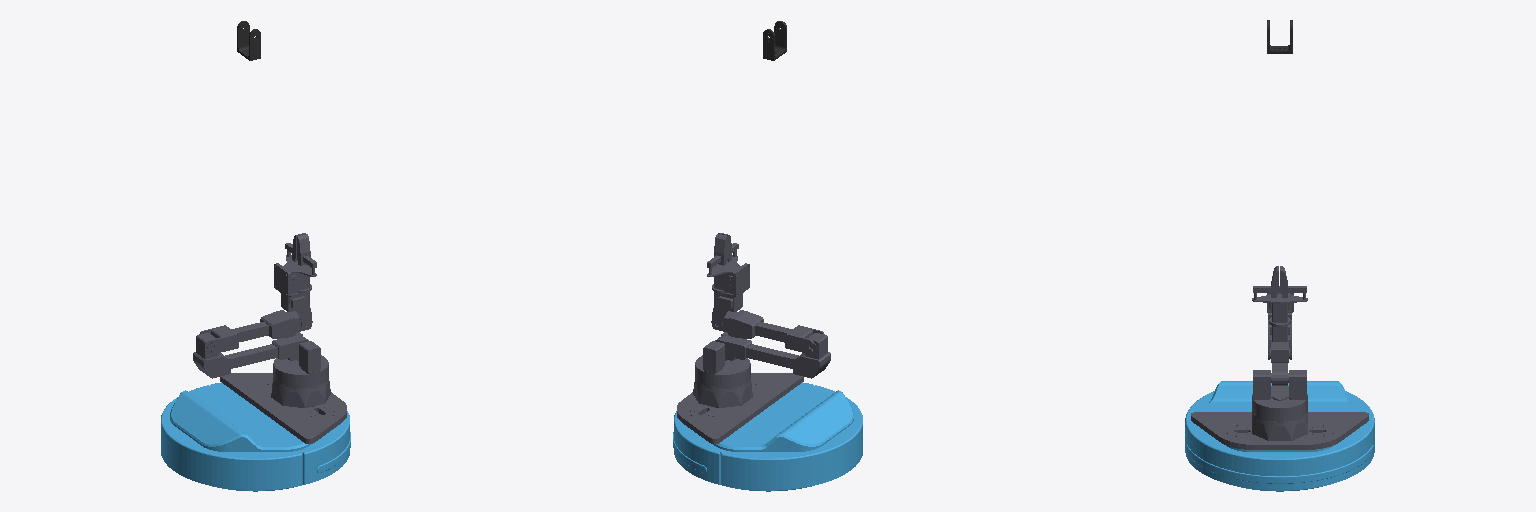
--- What the picture shows (computed from the rendered views, not written in the file) ---
3 views of the same robot in one strip: view 1: azimuth 30°, elevation 25°; view 2: azimuth 150°, elevation 25°; view 3: azimuth 270°, elevation 25° (orthographic).
Robot: locobot — 26 links, 25 joints (2 continuous, 23 fixed); root link base_footprint; default pose: all joints at 0.
Visible links, largest first — view 1: base_link, plate_2, elbow_link, forearm_link, arm_base_link, shoulder_link, gripper_link, head_pan_link, wrist_link; view 2: base_link, plate_2, elbow_link, forearm_link, arm_base_link, shoulder_link, gripper_link, head_pan_link, wrist_link; view 3: base_link, plate_2, arm_base_link, shoulder_link, gripper_link.
Link boxes in pixels (<box>): base_link: <box>161,382,350,491</box>; plate_2: <box>220,373,346,441</box>; elbow_link: <box>193,333,308,378</box>; forearm_link: <box>199,310,310,353</box>; arm_base_link: <box>271,365,330,407</box>; shoulder_link: <box>273,332,328,375</box>; gripper_link: <box>283,243,316,293</box>; head_pan_link: <box>237,21,260,60</box>; wrist_link: <box>281,292,312,329</box>; base_link: <box>673,382,862,491</box>; plate_2: <box>677,373,803,441</box>; elbow_link: <box>715,333,830,378</box>; forearm_link: <box>713,310,824,353</box>; arm_base_link: <box>693,365,752,407</box>; shoulder_link: <box>695,332,750,375</box>; gripper_link: <box>707,243,740,293</box>; head_pan_link: <box>763,21,786,60</box>; wrist_link: <box>711,292,742,329</box>; base_link: <box>1185,381,1374,491</box>; plate_2: <box>1191,412,1368,447</box>; arm_base_link: <box>1252,398,1307,440</box>; shoulder_link: <box>1252,370,1307,409</box>; gripper_link: <box>1252,286,1307,326</box>.
Size in the robot's own frame: 0.3518 by 0.35 by 0.8952 metres.
Meshes: 16 distinct files referenced, 15 mesh visuals loaded (13 OBJ); not drawn: 3 (reference not matched to a file when rendering).

The robot description file, URDF, robot "locobot":
<?xml version="1.0" ?>
<robot name="locobot">
    <!-- Kobuki -->
    <link name="base_footprint">
        <inertial>
            <mass value="0.0001"/>
            <origin xyz="0 0 0"/>
            <inertia ixx="0.0001" ixy="0.0" ixz="0.0" iyy="0.0001" iyz="0.0" izz="0.0001"/>
        </inertial>
    </link>
    <!--
       Base link is set at the bottom of the base mould.
       This is done to be compatible with the way base link
       was configured for turtlebot 1. Refer to

       https://github.com/turtlebot/turtlebot/issues/40

       To put the base link at the more oft used wheel
       axis, set the z-distance from the base_footprint
       to 0.352.
      -->
    <joint name="base_joint" type="fixed">
        <origin rpy="0 0 0" xyz="0 0 0.0102"/>
        <parent link="base_footprint"/>
        <child link="base_link"/>
    </joint>
    <link name="base_link">
        <visual>
            <geometry>
                <!-- new mesh -->
                <mesh filename="meshes/main_body.obj"/>
            </geometry>
            <origin rpy="0 0 0" xyz="0.001 0 0.05199"/>
        </visual>
        <collision name="base">
            <geometry>
                <cylinder length="0.10938" radius="0.178"/>
            </geometry>
            <origin rpy="0 0 0" xyz="0.0 0 0.05949"/>
        </collision>
        <inertial>
            <!-- COM experimentally determined -->
            <origin xyz="0.01 0 0"/>
            <mass value="2.4"/>
            <!-- 2.4/2.6 kg for small/big battery pack -->
            <!-- Kobuki's inertia tensor is approximated by a cylinder with homogeneous mass distribution
             More details: http://en.wikipedia.org/wiki/List_of_moment_of_inertia_tensors
             m = 2.4 kg; h = 0.09 m; r = 0.175 m
             ixx = 1/12 * m * (3 * r^2 + h^2)
             iyy = 1/12 * m * (3 * r^2 + h^2)
             izz = 1/2 * m * r^2
          -->
            <inertia ixx="0.019995" ixy="0.0" ixz="0.0" iyy="0.019995" iyz="0.0" izz="0.03675"/>
        </inertial>
    </link>
    <joint name="wheel_left_joint" type="continuous">
        <parent link="base_link"/>
        <child link="wheel_left_link"/>
        <origin rpy="-1.57079632679 0 0" xyz="0.00 0.115 0.0250"/>
        <axis xyz="0 0 1"/>
    </joint>
    <link name="wheel_left_link">
        <visual>
            <geometry>
                <mesh filename="meshes/wheel.obj"/>
            </geometry>
            <origin rpy="0 0 0" xyz="0 0 0"/>
        </visual>
        <collision>
            <geometry>
                <cylinder length="0.0206" radius="0.0352"/>
            </geometry>
            <origin rpy="0 0 0" xyz="0 0 0"/>
        </collision>
        <inertial>
            <mass value="0.01"/>
            <origin xyz="0 0 0"/>
            <inertia ixx="0.001" ixy="0.0" ixz="0.0" iyy="0.001" iyz="0.0" izz="0.001"/>
        </inertial>
        <contact>
            <lateral_friction value="1.0"/>
            <rolling_friction value="0.0"/>
            <stiffness value="30000"/>
            <damping value="1000"/>
        </contact>
    </link>
    <joint name="wheel_right_joint" type="continuous">
        <parent link="base_link"/>
        <child link="wheel_right_link"/>
        <origin rpy="-1.57079632679 0 0" xyz="0.00 -0.115 0.0250"/>
        <axis xyz="0 0 1"/>
    </joint>
    <link name="wheel_right_link">
        <visual>
            <geometry>
                <mesh filename="meshes/wheel.obj"/>
            </geometry>
            <origin rpy="0 0 0" xyz="0 0 0"/>
        </visual>
        <collision>
            <geometry>
                <cylinder length="0.0206" radius="0.0350"/>
            </geometry>
            <origin rpy="0 0 0" xyz="0 0 0"/>
        </collision>
        <inertial>
            <mass value="0.01"/>
            <origin xyz="0 0 0"/>
            <inertia ixx="0.001" ixy="0.0" ixz="0.0" iyy="0.001" iyz="0.0" izz="0.001"/>
        </inertial>
        <contact>
            <lateral_friction value="1.0"/>
            <rolling_friction value="0.0"/>
            <stiffness value="30000"/>
            <damping value="1000"/>
        </contact>
    </link>
    <joint name="caster_front_joint" type="fixed">
        <parent link="base_link"/>
        <child link="caster_front_link"/>
        <origin rpy="-1.57079632679 0 0" xyz="0.115 0.0 0.007"/>
    </joint>
    <link name="caster_front_link">
        <collision>
            <geometry>
                <cylinder length="0.0176" radius="0.017"/>
            </geometry>
            <origin rpy="0 0 0" xyz="0 0 0"/>
        </collision>
        <inertial>
            <mass value="0.01"/>
            <origin xyz="0 0 0"/>
            <inertia ixx="0.001" ixy="0.0" ixz="0.0" iyy="0.001" iyz="0.0" izz="0.001"/>
        </inertial>
        <contact>
            <lateral_friction value="0.0"/>
            <rolling_friction value="0.0"/>
            <stiffness value="30000"/>
            <damping value="10000"/>
        </contact>
    </link>
    <joint name="caster_back_joint" type="fixed">
        <parent link="base_link"/>
        <child link="caster_back_link"/>
        <origin rpy="-1.57079632679 0 0" xyz="-0.135 0.0 0.009"/>
    </joint>
    <link name="caster_back_link">
        <collision>
            <geometry>
                <cylinder length="0.0176" radius="0.017"/>
            </geometry>
            <origin rpy="0 0 0" xyz="0 0 0"/>
        </collision>
        <inertial>
            <mass value="0.01"/>
            <origin xyz="0 0 0"/>
            <inertia ixx="0.001" ixy="0.0" ixz="0.0" iyy="0.001" iyz="0.0" izz="0.001"/>
        </inertial>
        <contact>
            <lateral_friction value="0.0"/>
            <rolling_friction value="0.0"/>
            <stiffness value="30000"/>
            <damping value="10000"/>
        </contact>
    </link>
    <!-- Kobuki's sensors -->
    <joint name="gyro_joint" type="fixed">
        <axis xyz="0 1 0"/>
        <origin rpy="0 0 0" xyz="0.056 0.062 0.0202"/>
        <parent link="base_link"/>
        <child link="gyro_link"/>
    </joint>
    <link name="gyro_link">
        <inertial>
            <mass value="0.001"/>
            <origin rpy="0 0 0" xyz="0 0 0"/>
            <inertia ixx="0.0001" ixy="0" ixz="0" iyy="0.000001" iyz="0" izz="0.0001"/>
        </inertial>
    </link>
    <joint name="cliff_sensor_left_joint" type="fixed">
        <origin rpy="0 1.57079632679 0" xyz="0.08734 0.13601 0.0214"/>
        <parent link="base_link"/>
        <child link="cliff_sensor_left_link"/>
    </joint>
    <link name="cliff_sensor_left_link">
        <inertial>
            <mass value="0.0001"/>
            <origin xyz="0 0 0"/>
            <inertia ixx="0.0001" ixy="0.0" ixz="0.0" iyy="0.0001" iyz="0.0" izz="0.0001"/>
        </inertial>
    </link>
    <joint name="cliff_sensor_right_joint" type="fixed">
        <origin rpy="0 1.57079632679 0" xyz="0.085 -0.13601 0.0214"/>
        <parent link="base_link"/>
        <child link="cliff_sensor_right_link"/>
    </joint>
    <link name="cliff_sensor_right_link">
        <inertial>
            <mass value="0.0001"/>
            <origin xyz="0 0 0"/>
            <inertia ixx="0.0001" ixy="0.0" ixz="0.0" iyy="0.0001" iyz="0.0" izz="0.0001"/>
        </inertial>
    </link>
    <joint name="cliff_sensor_front_joint" type="fixed">
        <origin rpy="0 1.57079632679 0" xyz="0.156 0.00 0.0214"/>
        <parent link="base_link"/>
        <child link="cliff_sensor_front_link"/>
    </joint>
    <link name="cliff_sensor_front_link">
        <inertial>
            <mass value="0.0001"/>
            <origin xyz="0 0 0"/>
            <inertia ixx="0.0001" ixy="0.0" ixz="0.0" iyy="0.0001" iyz="0.0" izz="0.0001"/>
        </inertial>
    </link>
    <!-- plates  -->
    <link name="plate_1">
        <inertial>
            <origin rpy="0 0 0" xyz="0 0 0"/>
            <mass value="0.640128902693298"/>
            <inertia ixx="0.0212697824374231" ixy="-1.84819421839641E-07" ixz="0.00177278831625861" iyy="0.0200161122874848" iyz="1.82514218153984E-07" izz="0.00538401325307411"/>
        </inertial>
        <visual>
            <origin rpy="0 0 0" xyz="0 0 0"/>
            <geometry>
                <mesh filename="meshes/plate.obj"/>
            </geometry>
            <material name="">
                <color rgba="0.4 0.4 0.45 1"/>

            </material>
        </visual>
        <collision>
            <origin rpy="0 0 0" xyz="0 0 0"/>
            <geometry>
                <mesh filename="meshes/plate.obj"/>
            </geometry>
        </collision>
    </link>
    <joint name="plate_1_joint" type="fixed">
        <origin rpy="0 0 0" xyz="0.0973 0 0.0902375"/>
        <parent link="base_link"/>
        <child link="plate_1"/>
        <axis xyz="0 0 0"/>
    </joint>
    <link name="plate_2">
        <inertial>
            <origin rpy="0 0 0" xyz="0 0 0"/>
            <mass value="0.640128902693298"/>
            <inertia ixx="0.0212697824374231" ixy="-1.84819421839641E-07" ixz="0.00177278831625861" iyy="0.0200161122874848" iyz="1.82514218153984E-07" izz="0.00538401325307411"/>
        </inertial>
        <visual>
            <origin rpy="0 0 0" xyz="0 0 0"/>
            <geometry>
                <mesh filename="meshes/plate.obj"/>
            </geometry>
            <material name="">
                <color rgba="0.4 0.4 0.45 1"/>

            </material>
        </visual>
        <collision>
            <origin rpy="0 0 0" xyz="0 0 0"/>
            <geometry>
                <mesh filename="meshes/plate.obj"/>
            </geometry>
        </collision>
    </link>
    <joint name="plate_2_joint" type="fixed">
        <origin rpy="0 0 0" xyz="0 0 0.0047625"/>
        <parent link="plate_1"/>
        <child link="plate_2"/>
        <axis xyz="0 0 0"/>
    </joint>
    <!-- add arm -->
    <link name="arm_base_link">
        <inertial>
            <origin rpy="0 0 0" xyz="-1.86027246940057E-08 -1.84987775462994E-08 0.0400356424684456"/>
            <mass value="0.531491686912019"/>
            <inertia ixx="0.000533657400855491" ixy="-4.44205269454465E-09" ixz="2.11078566024265E-10" iyy="0.000533665698902565" iyz="5.02029005902419E-11" izz="0.00071572082392375"/>
        </inertial>
        <visual>
            <origin rpy="0 0 0" xyz="0 0 0"/>
            <geometry>
                <mesh filename="meshes/arm_base_link.obj"/>
            </geometry>
            <material name="">
                <color rgba="0.4 0.4 0.45 1"/>

            </material>
        </visual>
        <collision>
            <origin rpy="0 0 0" xyz="0 0 0"/>
            <geometry>
                <mesh filename="meshes/arm_base_link.obj"/>
            </geometry>
        </collision>
    </link>
    <joint name="arm_base_link_joint" type="fixed">
        <origin rpy="0 0 0" xyz="0 0 0.001"/>
        <parent link="plate_2"/>
        <child link="arm_base_link"/>
        <axis xyz="0 0 0"/>
    </joint>
    <link name="shoulder_link">
        <inertial>
            <origin rpy="0 0 0" xyz="-5.67968980068612E-05 1.09785478984274E-10 0.0228467386735302"/>
            <mass value="0.119861197293521"/>
            <inertia ixx="0.000161288180462291" ixy="7.59806211309873E-14" ixz="-1.45323090659527E-07" iyy="5.49696562437107E-05" iyz="1.81052501311883E-13" izz="0.000150800672543169"/>
        </inertial>
        <visual>
            <origin rpy="0 0 0" xyz="0 0 0"/>
            <geometry>
                <mesh filename="meshes/shoulder_link.obj"/>
            </geometry>
            <material name="">
                <color rgba="0.4 0.4 0.45 1"/>

            </material>
        </visual>
        <collision>
            <origin rpy="0 0 0" xyz="0 0 0"/>
            <geometry>
                <mesh filename="meshes/shoulder_link.obj"/>
            </geometry>
        </collision>
    </link>
    <joint name="joint_1" type="fixed">
        <origin rpy="0 0 0" xyz="0 0 0.072"/>
        <parent link="arm_base_link"/>
        <child link="shoulder_link"/>
        <axis xyz="0 0 1"/>
        <limit effort="10" lower="-1.57" upper="1.57" velocity="1"/>
    </joint>
    <link name="elbow_link">
        <inertial>
            <origin rpy="0 0 0" xyz="0.00959755948481227 -2.30930057287648E-10 0.134296795349987"/>
            <mass value="0.212482745791037"/>
            <inertia ixx="0.0011748973771367" ixy="-4.7094567420817E-13" ixz="-0.000132188939134774" iyy="0.00122350302249847" iyz="-5.48932537472287E-12" izz="9.02202689343621E-05"/>
        </inertial>
        <visual>
            <origin rpy="0 0 0" xyz="0 0 0"/>
            <geometry>
                <mesh filename="meshes/elbow_link.obj"/>
            </geometry>
            <material name="">
                <color rgba="0.4 0.4 0.45 1"/>

            </material>
        </visual>
        <collision>
            <origin rpy="0 0 0" xyz="0 0 0"/>
            <geometry>
                <mesh filename="meshes/elbow_link.obj"/>
            </geometry>
        </collision>
    </link>
    <joint name="joint_2" type="fixed">
        <origin rpy="0 -1.57 0" xyz="0 0 0.04125"/>
        <parent link="shoulder_link"/>
        <child link="elbow_link"/>
        <axis xyz="0 1 0"/>
        <limit effort="10" lower="-1.57" upper="1.57" velocity="1"/>
    </joint>
    <link name="forearm_link">
        <inertial>
            <origin rpy="0 0 0" xyz="0.117829826272582 3.09310973110905E-15 -1.26218883678142E-08"/>
            <mass value="0.18746427435805"/>
            <inertia ixx="3.94142667601686E-05" ixy="-3.65830967659785E-19" ixz="9.25852572167442E-11" iyy="0.000725209569605637" iyz="-1.05290858715495E-18" izz="0.000737165881391993"/>
        </inertial>
        <visual>
            <origin rpy="0 0 0" xyz="0 0 0"/>
            <geometry>
                <mesh filename="meshes/forearm_link.obj"/>
            </geometry>
            <material name="">
                <color rgba="0.4 0.4 0.45 1"/>

            </material>
        </visual>
        <collision>
            <origin rpy="0 0 0" xyz="0 0 0"/>
            <geometry>
                <mesh filename="meshes/forearm_link.obj"/>
            </geometry>
        </collision>
    </link>
    <joint name="joint_3" type="fixed">
        <origin rpy="0 1.5707963267948966 0" xyz="0.05 0 0.2"/>
        <parent link="elbow_link"/>
        <child link="forearm_link"/>
        <axis xyz="0 1 0"/>
        <limit effort="10" lower="-1.57" upper="1.57" velocity="1"/>
    </joint>
    <link name="wrist_link">
        <inertial>
            <origin rpy="0 0 0" xyz="0.0429410028407894 4.98644733821042E-05 0.0114266948023652"/>
            <mass value="0.0605921736680362"/>
            <inertia ixx="1.84998512056284E-05" ixy="-1.03256667343112E-08" ixz="-1.71865409274096E-06" iyy="2.08955068262134E-05" iyz="5.05203399787143E-09" izz="1.97857037442992E-05"/>
        </inertial>
        <visual>
            <origin rpy="0 0 0" xyz="0 0 0"/>
            <geometry>
                <mesh filename="meshes/wrist_link.obj"/>
            </geometry>
            <material name="">
                <color rgba="0.4 0.4 0.45 1"/>

            </material>
        </visual>
        <collision>
            <origin rpy="0 0 0" xyz="0 0 0"/>
            <geometry>
                <mesh filename="meshes/wrist_link.obj"/>
            </geometry>
        </collision>
    </link>
    <joint name="joint_4" type="fixed">
        <origin rpy="0 -1.57 0" xyz="0.2002 0 0"/>
        <parent link="forearm_link"/>
        <child link="wrist_link"/>
        <axis xyz="0 1 0"/>
        <limit effort="1" lower="-1.57" upper="1.57" velocity="1"/>
    </joint>
    <link name="gripper_link">
        <inertial>
            <origin rpy="0 0 0" xyz="0.0311572802112565 -1.25977280754998E-05 0.0092307003092138"/>
            <mass value="0.0795745052466434"/>
            <inertia ixx="3.27413333929741E-05" ixy="3.7314060486416E-08" ixz="3.97669066588691E-06" iyy="4.47182985231326E-05" iyz="-9.49992756213297E-09" izz="5.02142570756738E-05"/>
        </inertial>
        <visual>
            <origin rpy="0 0 0" xyz="0 0 0"/>
            <geometry>
                <mesh filename="meshes/gripper_link.obj"/>
            </geometry>
            <material name="">
                <color rgba="0.4 0.4 0.45 1"/>

            </material>
        </visual>
        <collision>
            <origin rpy="0 0 0" xyz="0 0 0"/>
            <geometry>
                <mesh filename="meshes/gripper_link.obj"/>
            </geometry>
        </collision>
    </link>
    <joint name="joint_5" type="fixed">
        <origin rpy="0 0 0" xyz="0.063 0.0001 0"/>
        <parent link="wrist_link"/>
        <child link="gripper_link"/>
        <axis xyz="-1 0 0"/>
        <limit effort="1" lower="-1.57" upper="1.57" velocity="1"/>
    </joint>
    <link name="finger_r">
        <inertial>
            <origin rpy="0 0 0" xyz="0.0100191457715113 -0.00843835347348892 -0.00483280251641866"/>
            <mass value="0.0121931459003602"/>
            <inertia ixx="6.74016278931418E-07" ixy="-2.36459038775023E-07" ixz="3.1480125304693E-09" iyy="3.10966297287339E-06" iyz="1.19271018871704E-10" izz="2.77935600332309E-06"/>
        </inertial>
        <visual>
            <origin rpy="0 0 0" xyz="0 0 0"/>
            <geometry>
                <mesh filename="meshes/finger_r.obj"/>
            </geometry>
            <material name="">
                <color rgba="0.4 0.4 0.45 1"/>

            </material>
        </visual>
        <collision>
            <origin rpy="0 0 0" xyz="0 0 0"/>
            <geometry>
                <mesh filename="meshes/finger_r.obj"/>
            </geometry>
        </collision>
    </link>
    <joint name="joint_6" type="fixed">
        <origin rpy="0 0 0" xyz="0.07285 0 0.0050143"/>
        <parent link="gripper_link"/>
        <child link="finger_r"/>
        <axis xyz="0 1 0"/>
        <limit effort="1" lower="-1" upper="0" velocity="1"/>
    </joint>
    <link name="finger_l">
        <inertial>
            <origin rpy="0 0 0" xyz="0.0100191599590265 0.00643833435729511 -0.00483280251641866"/>
            <mass value="0.0121931459003603"/>
            <inertia ixx="6.74017180959932E-07" ixy="2.3646368440071E-07" ixz="3.14801230297432E-09" iyy="3.10966207084492E-06" iyz="-1.19277023229564E-10" izz="2.77935600332313E-06"/>
        </inertial>
        <visual>
            <origin rpy="0 0 0" xyz="0 0 0"/>
            <geometry>
                <mesh filename="meshes/finger_l.obj"/>
            </geometry>
            <material name="">
                <color rgba="0.4 0.4 0.45 1"/>

            </material>
        </visual>
        <collision>
            <origin rpy="0 0 0" xyz="0 0 0"/>
            <geometry>
                <mesh filename="meshes/finger_l.obj"/>
            </geometry>
        </collision>
    </link>
    <joint name="joint_7" type="fixed">
        <origin rpy="0 0 0" xyz="0.07285 0 0.0050143"/>
        <parent link="gripper_link"/>
        <child link="finger_l"/>
        <axis xyz="0 1 0"/>
        <limit effort="1" lower="0" upper="1" velocity="1"/>
    </joint>
    <link name="ar_tag">
        <inertial>
            <origin rpy="0 0 0" xyz="-1.59182528269852E-09 1.70641183422241E-09 -0.00509579048106218"/>
            <mass value="0.0202622634619862"/>
            <inertia ixx="4.71058333074219E-06" ixy="3.03778067070489E-12" ixz="6.65421687578365E-13" iyy="4.05773489073818E-06" iyz="1.37033485576347E-13" izz="7.92378853658606E-06"/>
        </inertial>
        <visual>
            <origin rpy="0 0 0" xyz="0 0 0"/>
            <geometry>
                <mesh filename="meshes/ar_tag.obj"/>
            </geometry>
            <material name="">
                <color rgba="0.4 0.4 0.45 1"/>

            </material>
        </visual>
        <collision>
            <origin rpy="0 0 0" xyz="0 0 0"/>
            <geometry>
                <mesh filename="meshes/ar_tag.obj"/>
            </geometry>
        </collision>
    </link>
    <joint name="ar_tag_joint" type="fixed">
        <origin rpy="0 0 0" xyz="0.0269499999999999 0 0.04315"/>
        <parent link="gripper_link"/>
        <child link="ar_tag"/>
        <axis xyz="0 0 0"/>
    </joint>
    <!-- need to add camera assembly -->
    <link name="cam_mount">
        <inertial>
            <origin rpy="0 0 0" xyz="0.00357169217419921 -0.000144750803528887 0.178406861295468"/>
            <mass value="0.508068698311304"/>
            <inertia ixx="0.0159487749924762" ixy="9.45818767875249E-08" ixz="-0.000266253609478166" iyy="0.0137751425461872" iyz="2.26699147122113E-06" izz="0.00331206257835318"/>
        </inertial>
        <visual>
            <origin rpy="0 0 0" xyz="0 0 0"/>
            <geometry>
                <mesh filename="meshes/cam_mount.obj" scale="1.0 1.0 1.7"/>
            </geometry>
            <material name="">
                <color rgba="0.4 0.4 0.45 1"/>

            </material>
        </visual>
        <collision>
            <origin rpy="0 0 0" xyz="0 0 0"/>
            <geometry>
                <mesh filename="meshes/cam_mount.obj" scale="1.0 1.0 1.7" />
            </geometry>
        </collision>
    </link>
    <joint name="cam_mount_joint" type="fixed">
        <origin rpy="0 0 0" xyz="-0.03751 0 0.1331"/>
        <parent link="base_link"/>
        <child link="cam_mount"/>
        <axis xyz="0 0 0"/>
    </joint>
    <link name="head_pan_link">
        <inertial>
            <origin rpy="0 0 0" xyz="-1.35308431126191E-16 -2.97071395261028E-17 0.0220876265081744"/>
            <mass value="0.0182769203076134"/>
            <inertia ixx="1.32243845065555E-05" ixy="5.07660179129181E-13" ixz="1.067515220067E-20" iyy="7.13386116649085E-06" iyz="-1.32882457845217E-20" izz="7.83291781352837E-06"/>
        </inertial>
        <visual>
            <origin rpy="0 0 0" xyz="0 0 0"/>
            <geometry>
                <mesh filename="meshes/tilt_link.obj"/>
            </geometry>
            <material name="">
                <color rgba="0.250980392156863 0.250980392156863 0.250980392156863 1"/>
            </material>
        </visual>
        <collision>
            <origin rpy="0 0 0" xyz="0 0 0"/>
            <geometry>
                <mesh filename="meshes/tilt_link.obj"/>
            </geometry>
        </collision>
    </link>
    <joint name="head_pan_joint" type="fixed">
        <origin rpy="0 0 0" xyz="0.0240154841629213 -0.000373468229198185 0.6909499841928483"/>
        <parent link="cam_mount"/>
        <child link="head_pan_link"/>
        <axis xyz="0 0 1"/>
        <limit effort="1" lower="-1.57" upper="1.57" velocity="1"/>
    </joint>
    <link name="head_tilt_link">
        <inertial>
            <origin rpy="0 0 0" xyz="0.0168744200088311 -0.000442984145897884 -0.00405256422002387"/>
            <mass value="0.0547677687275323"/>
            <inertia ixx="1.07071738005716E-05" ixy="-1.46854788384565E-07" ixz="5.59529059364376E-08" iyy="1.77011620295824E-05" iyz="1.27587154712834E-09" izz="2.01583693170578E-05"/>
        </inertial>
        <visual>
            <origin rpy="0 0 0" xyz="0 0 0"/>
            <geometry>
                <mesh filename="meshes/roll_link.obj"/>
            </geometry>
            <material name="">
                <color rgba="0.4 0.4 0.45 1"/>

            </material>
        </visual>
        <collision>
            <origin rpy="0 0 0" xyz="0 0 0"/>
            <geometry>
                <mesh filename="meshes/roll_link.obj"/>
            </geometry>
        </collision>
    </link>
    <joint name="head_tilt_joint" type="fixed">
        <!--<origin rpy="0 0.3490658503988659 0" xyz="0 0 0.05"/> ORIGINAL SETTING-->
        <origin rpy="0 0.5490658503988659 0" xyz="0 0 0.05"/> <!--THIS IS FOR THE NORMAL TRAINING (MY RL AGENT)--> 
        <!--<origin rpy="0 0 0" xyz="0 0 0.05"/>-->
        <parent link="head_pan_link"/>
        <child link="head_tilt_link"/>
        <axis xyz="0 1 0"/>
        <limit effort="1" lower="-1.57" upper="1.57" velocity="1"/>
    </joint>
    <link name="camera_link">
        <inertial>
            <origin rpy="0 0 0" xyz="-0.0132722976093535 0.00168171470080143 2.49829664994428E-06"/>
            <mass value="0.0381925651163644"/>
            <inertia ixx="2.4688255642946E-05" ixy="1.60697655569215E-07" ixz="1.2993241737711E-08" iyy="3.66669176935806E-06" iyz="1.30215657011203E-08" izz="2.48602467766615E-05"/>
        </inertial>
        <visual>
            <origin rpy="0 0 0" xyz="0 0 0"/>
            <geometry>
                <mesh filename="meshes/camera_link.obj"/>
            </geometry>
            <material name="cam_color">
                <color rgba="0.8 0.8 0.9 1"/>

            </material>
        </visual>
        <collision>
            <origin rpy="0 0 0" xyz="0 0 0"/>
            <geometry>
                <mesh filename="meshes/camera_link.obj"/>
            </geometry>
        </collision>
    </link>
    <joint name="camera_joint" type="fixed">
        <origin rpy="0 0 0" xyz="0.06705 0 -0.00425"/>
        <parent link="head_tilt_link"/>
        <child link="camera_link"/>
        <axis xyz="0 0 0"/>
    </joint>

    <link name="eyes">
        <inertial>
            <mass value="0.001"/>
            <origin xyz="0 0 0"/>
            <inertia ixx="0.0001" ixy="0.0" ixz="0.0" iyy="0.0001" iyz="0.0" izz="0.0001"/>
        </inertial>
    </link>
    <joint name="eye_joint" type="fixed">
        <origin rpy="0 0 0" xyz="0 0 0"/>
        <parent link="camera_link"/>
        <child link="eyes"/>
    </joint>

    <!-- Gazebo Plugins -->
    <gazebo>
        <plugin filename="libgazebo_ros_control.so" name="gazebo_ros_control">
            <robotNamespace>/</robotNamespace>
            <legacyModeNS>true</legacyModeNS>
        </plugin>
    </gazebo>
    <!-- Camera joints -->
    <transmission name="tran_head_tilt">
        <type>transmission_interface/SimpleTransmission</type>
        <joint name="head_tilt_joint">
            <hardwareInterface>hardware_interface/EffortJointInterface</hardwareInterface>
        </joint>
        <actuator name="head_tilt_motor">
            <hardwareInterface>hardware_interface/EffortJointInterface</hardwareInterface>
            <mechanicalReduction>1</mechanicalReduction>
        </actuator>
    </transmission>
    <transmission name="tran_head_pan">
        <type>transmission_interface/SimpleTransmission</type>
        <joint name="head_pan_joint">
            <hardwareInterface>hardware_interface/EffortJointInterface</hardwareInterface>
        </joint>
        <actuator name="head_pan_motor">
            <hardwareInterface>hardware_interface/EffortJointInterface</hardwareInterface>
            <mechanicalReduction>1</mechanicalReduction>
        </actuator>
    </transmission>
    <!-- Arm joints -->
    <transmission name="tran_1">
        <type>transmission_interface/SimpleTransmission</type>
        <joint name="joint_1">
            <hardwareInterface>hardware_interface/EffortJointInterface</hardwareInterface>
        </joint>
        <actuator name="motor_1">
            <hardwareInterface>hardware_interface/EffortJointInterface</hardwareInterface>
            <mechanicalReduction>1</mechanicalReduction>
        </actuator>
    </transmission>
    <transmission name="tran_2">
        <type>transmission_interface/SimpleTransmission</type>
        <joint name="joint_2">
            <hardwareInterface>hardware_interface/EffortJointInterface</hardwareInterface>
        </joint>
        <actuator name="motor_2">
            <hardwareInterface>hardware_interface/EffortJointInterface</hardwareInterface>
            <mechanicalReduction>1</mechanicalReduction>
        </actuator>
    </transmission>
    <transmission name="tran_3">
        <type>transmission_interface/SimpleTransmission</type>
        <joint name="joint_3">
            <hardwareInterface>hardware_interface/EffortJointInterface</hardwareInterface>
        </joint>
        <actuator name="motor_3">
            <hardwareInterface>hardware_interface/EffortJointInterface</hardwareInterface>
            <mechanicalReduction>1</mechanicalReduction>
        </actuator>
    </transmission>
    <transmission name="tran_4">
        <type>transmission_interface/SimpleTransmission</type>
        <joint name="joint_4">
            <hardwareInterface>hardware_interface/EffortJointInterface</hardwareInterface>
        </joint>
        <actuator name="motor_4">
            <hardwareInterface>hardware_interface/EffortJointInterface</hardwareInterface>
            <mechanicalReduction>1</mechanicalReduction>
        </actuator>
    </transmission>
    <transmission name="tran_5">
        <type>transmission_interface/SimpleTransmission</type>
        <joint name="joint_5">
            <hardwareInterface>hardware_interface/EffortJointInterface</hardwareInterface>
        </joint>
        <actuator name="motor_5">
            <hardwareInterface>hardware_interface/EffortJointInterface</hardwareInterface>
            <mechanicalReduction>1</mechanicalReduction>
        </actuator>
    </transmission>
    <transmission name="tran_6">
        <type>transmission_interface/SimpleTransmission</type>
        <joint name="joint_6">
            <hardwareInterface>hardware_interface/EffortJointInterface</hardwareInterface>
        </joint>
        <actuator name="motor_6">
            <hardwareInterface>hardware_interface/EffortJointInterface</hardwareInterface>
            <mechanicalReduction>1</mechanicalReduction>
        </actuator>
    </transmission>
    <transmission name="tran_7">
        <type>transmission_interface/SimpleTransmission</type>
        <joint name="joint_7">
            <hardwareInterface>hardware_interface/EffortJointInterface</hardwareInterface>
        </joint>
        <actuator name="motor_7">
            <hardwareInterface>hardware_interface/EffortJointInterface</hardwareInterface>
            <mechanicalReduction>1</mechanicalReduction>
        </actuator>
    </transmission>
    <!-- camera -->
    <gazebo reference="camera_link">
        <sensor name="camera_frame_sensor" type="depth">
            <always_on>true</always_on>
            <update_rate>30.0</update_rate>
            <camera>
                <horizontal_fov>0.994837</horizontal_fov>
                <image>
                    <format>R8G8B8</format>
                    <width>640</width>
                    <height>480</height>
                </image>
                <clip>
                    <near>0.01</near>
                    <far>10</far>
                </clip>
            </camera>
            <plugin filename="libgazebo_ros_openni_kinect.so" name="camera_frame_controller">
                <alwaysOn>true</alwaysOn>
                <updateRate>30.0</updateRate>
                <cameraName>camera</cameraName>
                <imageTopicName>color/image_raw</imageTopicName>
                <cameraInfoTopicName>color/camera_info</cameraInfoTopicName>
                <depthImageTopicName>aligned_depth_to_color/image_raw</depthImageTopicName>
                <depthImageCameraInfoTopicName>aligned_depth_to_color/camera_info</depthImageCameraInfoTopicName>
                <pointCloudTopicName>depth_registered/points</pointCloudTopicName>
                <frameName>camera_color_optical_frame</frameName>
                <pointCloudCutoff>10</pointCloudCutoff>
                <distortionK1>0.00000001</distortionK1>
                <distortionK2>0.00000001</distortionK2>
                <distortionK3>0.00000001</distortionK3>
                <distortionT1>0.00000001</distortionT1>
                <distortionT2>0.00000001</distortionT2>
                <CxPrime>0</CxPrime>
                <Cx>0</Cx>
                <Cy>0</Cy>
                <focalLength>0</focalLength>
                <hackBaseline>0</hackBaseline>
            </plugin>
        </sensor>
    </gazebo>
    <!--      <gazebo reference="cam_mount"><self_collide>true</self_collide></gazebo><self_collide>true</self_collide>-->
    <!-- Gazebo plugins for the base of the robot -->
    <!--     <gazebo><plugin name="kobuki_controller" filename="libgazebo_ros_kobuki.so"><publish_tf>1</publish_tf><left_wheel_joint_name>wheel_left_joint</left_wheel_joint_name><right_wheel_joint_name>wheel_right_joint</right_wheel_joint_name><wheel_separation>.230</wheel_separation><wheel_diameter>0.070</wheel_diameter><torque>1.0</torque><velocity_command_timeout>0.6</velocity_command_timeout><cliff_sensor_left_name>cliff_sensor_left</cliff_sensor_left_name><cliff_sensor_center_name>cliff_sensor_front</cliff_sensor_center_name><cliff_sensor_right_name>cliff_sensor_right</cliff_sensor_right_name><cliff_detection_threshold>0.04</cliff_detection_threshold><bumper_name>bumpers</bumper_name><imu_name>imu</imu_name></plugin></gazebo>-->
    


    <gazebo reference="wheel_left_link">
        <mu1>1.0</mu1>
        <mu2>1.0</mu2>
        <kp>1000000.0</kp>
        <kd>100.0</kd>
        <minDepth>0.001</minDepth>
        <maxVel>1.0</maxVel>
    </gazebo>
    <gazebo reference="wheel_right_link">
        <mu1>1.0</mu1>
        <mu2>1.0</mu2>
        <kp>1000000.0</kp>
        <kd>100.0</kd>
        <minDepth>0.001</minDepth>
        <maxVel>1.0</maxVel>
    </gazebo>
    <gazebo reference="caster_front_link">
        <mu1>0.0</mu1>
        <mu2>0.0</mu2>
        <kp>1000000.0</kp>
        <kd>100.0</kd>
        <minDepth>0.001</minDepth>
        <maxVel>1.0</maxVel>
    </gazebo>


    <gazebo reference="cliff_sensor_left_link">
        <sensor name="cliff_sensor_left" type="ray">
            <always_on>true</always_on>
            <update_rate>50</update_rate>
            <visualize>true</visualize>
            <ray>
                <scan>
                    <horizontal>
                        <samples>50</samples>
                        <resolution>1.0</resolution>
                        <min_angle>-0.0436</min_angle>
                        <!-- -2.5 degree -->
                        <max_angle>0.0436</max_angle>
                        <!-- 2.5 degree -->
                    </horizontal>
                </scan>
                <range>
                    <min>0.01</min>
                    <max>0.15</max>
                    <resolution>1.0</resolution>
                </range>
            </ray>
        </sensor>
    </gazebo>
    <gazebo reference="cliff_sensor_right_link">
        <sensor name="cliff_sensor_right" type="ray">
            <always_on>true</always_on>
            <update_rate>50</update_rate>
            <visualize>true</visualize>
            <ray>
                <scan>
                    <horizontal>
                        <samples>50</samples>
                        <resolution>1.0</resolution>
                        <min_angle>-0.0436</min_angle>
                        <!-- -2.5 degree -->
                        <max_angle>0.0436</max_angle>
                        <!-- 2.5 degree -->
                    </horizontal>
                </scan>
                <range>
                    <min>0.01</min>
                    <max>0.15</max>
                    <resolution>1.0</resolution>
                </range>
            </ray>
        </sensor>
    </gazebo>
    <gazebo reference="cliff_sensor_front_link">
        <sensor name="cliff_sensor_front" type="ray">
            <always_on>true</always_on>
            <update_rate>50</update_rate>
            <visualize>true</visualize>
            <ray>
                <scan>
                    <horizontal>
                        <samples>50</samples>
                        <resolution>1.0</resolution>
                        <min_angle>-0.0436</min_angle>
                        <!-- -2.5 degree -->
                        <max_angle>0.0436</max_angle>
                        <!-- 2.5 degree -->
                    </horizontal>
                </scan>
                <range>
                    <min>0.01</min>
                    <max>0.15</max>
                    <resolution>1.0</resolution>
                </range>
            </ray>
        </sensor>
    </gazebo>

    <gazebo reference="base_link">
        <mu1>0.3</mu1>
        <mu2>0.3</mu2>
        <sensor type="contact" name="bumpers">
          <always_on>1</always_on>
          <update_rate>50.0</update_rate>
          <visualize>true</visualize>
          <contact>
            <collision>base_footprint</collision>
          </contact>
        </sensor>
      </gazebo>


    <gazebo reference="gyro_link">
        <sensor name="imu" type="imu">
            <always_on>true</always_on>
            <update_rate>50</update_rate>
            <visualize>false</visualize>
            <imu>
                <noise>
                    <type>gaussian</type>
                    <rate>
                        <mean>0.0</mean>
                        <stddev>0.00000196</stddev>
                        <!-- 0.25 x 0.25 (deg/s) -->
                        <bias_mean>0.0</bias_mean>
                        <bias_stddev>0.0</bias_stddev>
                    </rate>
                    <accel>
                        <!-- not used in the plugin and real robot, hence using tutorial values -->
                        <mean>0.0</mean>
                        <stddev>1.7e-2</stddev>
                        <bias_mean>0.1</bias_mean>
                        <bias_stddev>0.001</bias_stddev>
                    </accel>
                </noise>
            </imu>
        </sensor>
    </gazebo>

    <gazebo>
        <self_collide>true</self_collide>
    </gazebo>

<!--     <gazebo>
	    <plugin name="kobuki_controller" filename="libgazebo_ros_kobuki.so">
	      <publish_tf>1</publish_tf>
	      <publish_joint_states>0</publish_joint_states>
	      <left_wheel_joint_name>wheel_left_joint</left_wheel_joint_name>
	      <right_wheel_joint_name>wheel_right_joint</right_wheel_joint_name>
	      <wheel_separation>.230</wheel_separation>
	      <wheel_diameter>0.070</wheel_diameter>
	      <torque>1.0</torque>
	      <velocity_command_timeout>0.6</velocity_command_timeout>
	      <cliff_sensor_left_name>cliff_sensor_left</cliff_sensor_left_name>
	      <cliff_sensor_center_name>cliff_sensor_front</cliff_sensor_center_name>
	      <cliff_sensor_right_name>cliff_sensor_right</cliff_sensor_right_name>
	      <cliff_detection_threshold>0.04</cliff_detection_threshold>
	      <bumper_name>bumpers</bumper_name>
	      <robotNamespace>/base</robotNamespace>
        <imu_name>imu</imu_name>
	    </plugin>
	 </gazebo> -->


      <gazebo>  
         <plugin filename="libgazebo_ros_diff_drive.so" name="differential_drive_controller">   
             <alwaysOn>true</alwaysOn>  
             <legacyMode>false</legacyMode> 
            <updateRate>40</updateRate> 
            <leftJoint>wheel_left_joint</leftJoint> 
            <rightJoint>wheel_right_joint</rightJoint>  
            <wheelSeparation>0.230</wheelSeparation>    
            <wheelDiameter>0.070</wheelDiameter>    
            <wheelTorque>1.0</wheelTorque>  
            <!--wheelAcceleration>${wheel_accel}</wheelAcceleration-->  
            <commandTopic>mobile_base/commands/velocity</commandTopic>  
            <odometryTopic>odom</odometryTopic> 
            <odometryFrame>odom</odometryFrame> 
            <robotBaseFrame>base_footprint</robotBaseFrame> 
            <publishWheelJointState>true</publishWheelJointState>
        </plugin>   
        <plugin filename="libgazebo_ros_p3d.so" name="p3d_base_controller"> 
            <alwaysOn>true</alwaysOn>   
            <updateRate>100.0</updateRate>  
            <bodyName>base_link</bodyName>  
            <topicName>base/absolute_position</topicName>   
            <gaussianNoise>0</gaussianNoise>    
            <frameName>map</frameName>  
            <xyzOffsets>0 0 0</xyzOffsets>  
            <rpyOffsets>0 0 0</rpyOffsets>  
            <!--<interface:position name="p3d_base_position"/>-->   
        </plugin>   
    </gazebo>
</robot>
